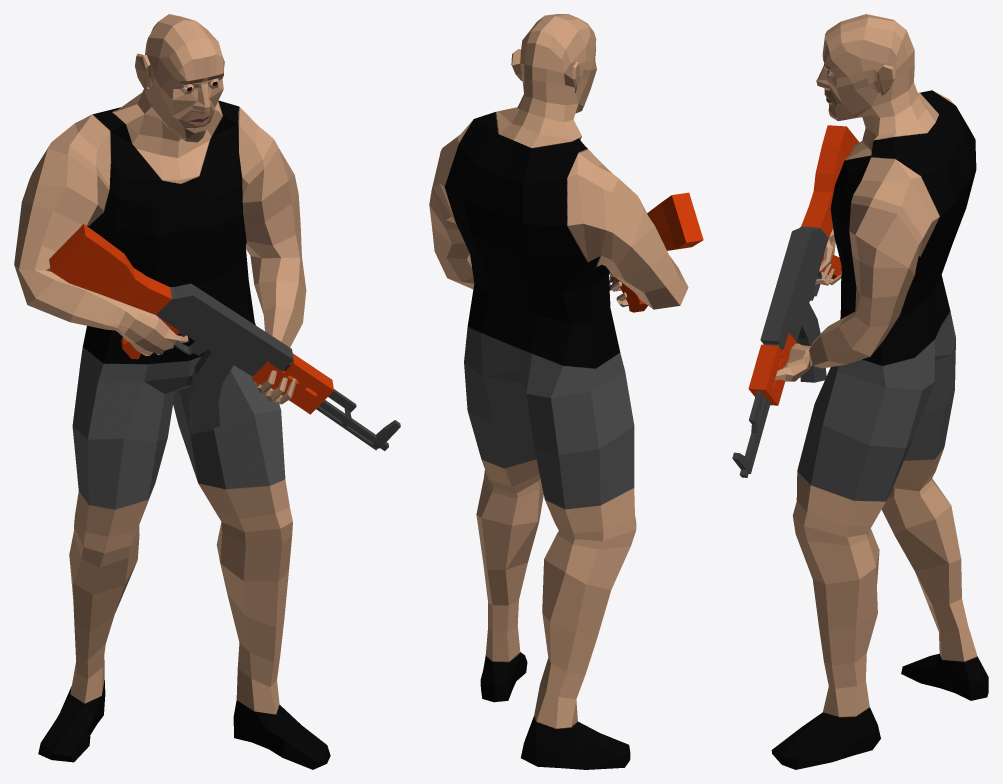
The model's file is PlayerIdle(200).obj.
3 views of the same model, side by side, from view 1: azimuth 30°, elevation 25°; view 2: azimuth 150°, elevation 25°; view 3: azimuth 270°, elevation 25° (orthographic). The views are drawn at different scales.
Parts seen in each view (by area): view 1: Plane002, Object001; view 2: Plane002, Object001; view 3: Plane002, Object001.
Boxes of the visible parts, x1=… form: Plane002: x1=14, y1=14, x2=330, y2=769; Object001: x1=49, y1=224, x2=400, y2=450; Plane002: x1=429, y1=14, x2=688, y2=769; Object001: x1=608, y1=192, x2=703, y2=312; Plane002: x1=771, y1=14, x2=988, y2=769; Object001: x1=732, y1=125, x2=859, y2=477.
Size of the model in its own units: 758 by 1798 by 595.
